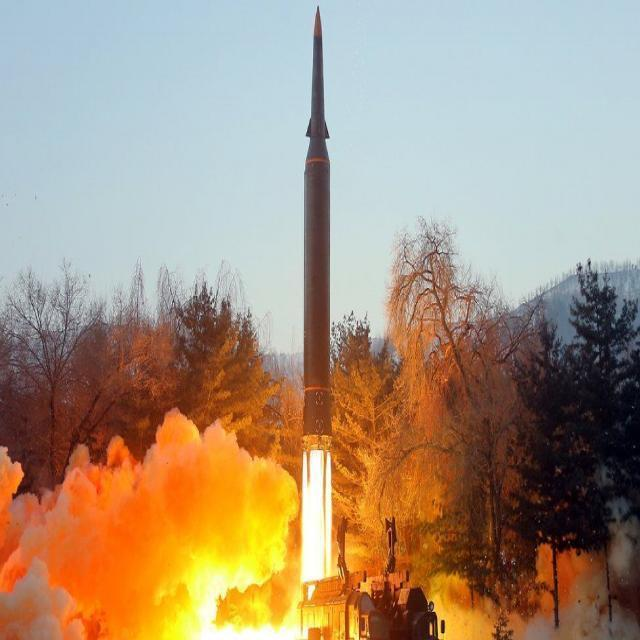missile: (292, 7, 342, 452)
